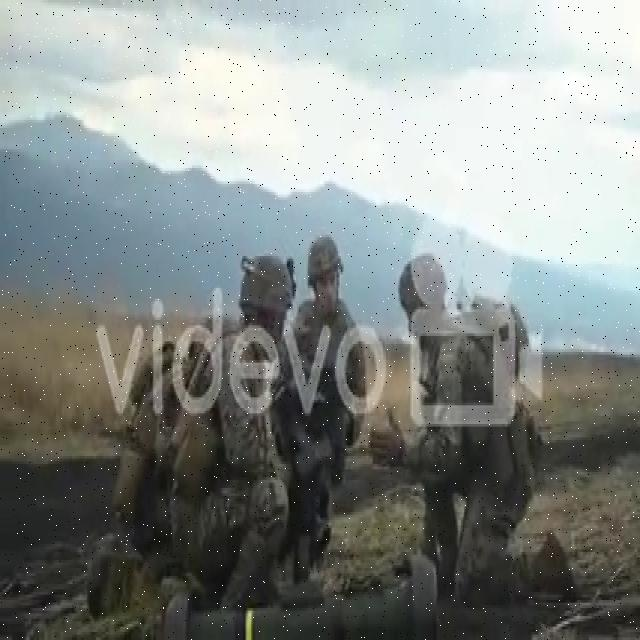bazooka: (159, 546, 449, 640)
